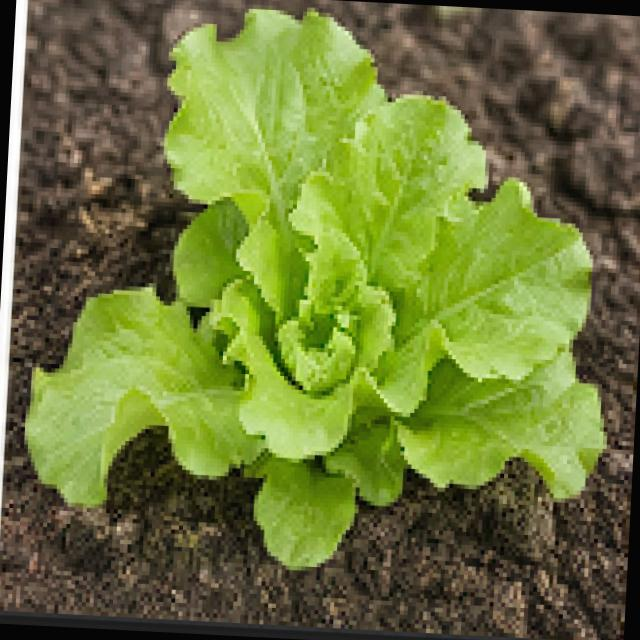inmadura: (29, 9, 607, 566)
